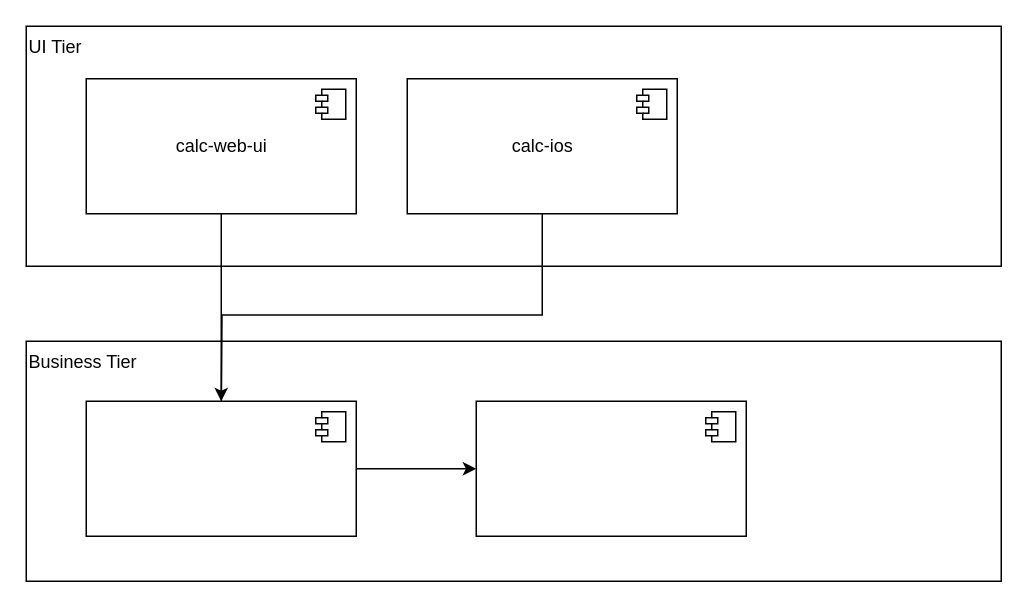
Some shapes in this 1028 by 608 pixel diagram are drawn without their labels. Each missing label, with the centre of its shape:
calc-api: (610,468)
calc-service: (220,468)
